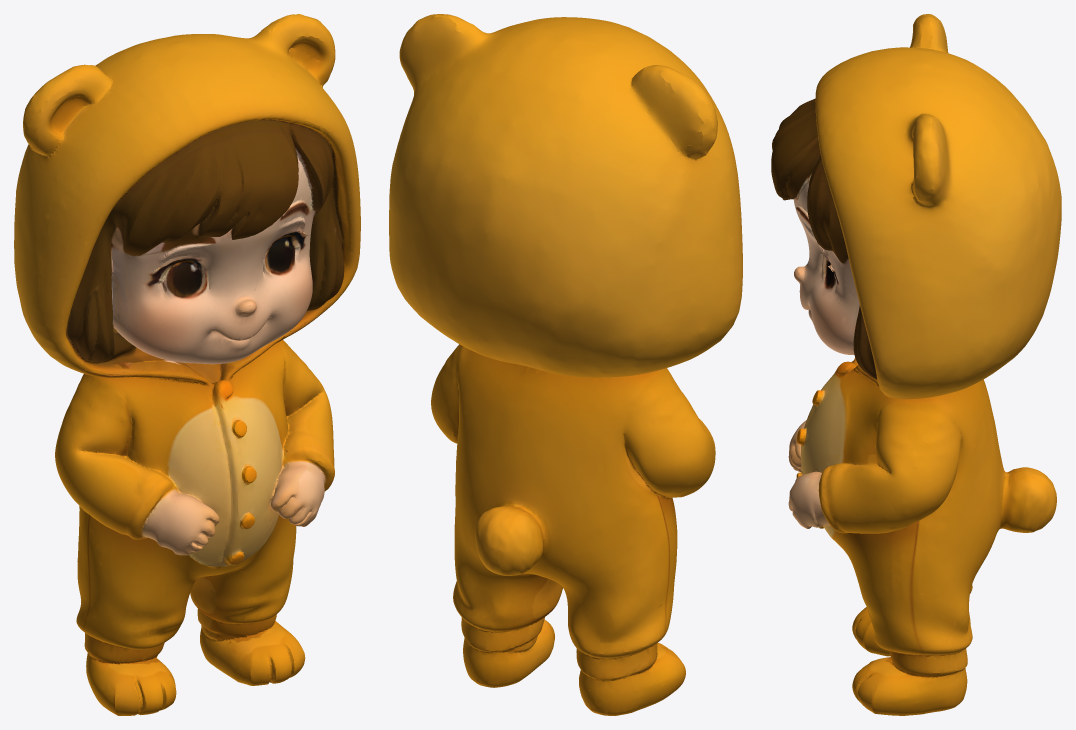
Rendered from base_basic_pbr.glb.
3 views of the same model, side by side, from view 1: azimuth 30°, elevation 25°; view 2: azimuth 150°, elevation 25°; view 3: azimuth 270°, elevation 25° (orthographic). The views are drawn at different scales.
Visible parts, largest first — view 1: model; view 2: model; view 3: model.
Part boxes in pixels (<box>): model: <box>14,14,360,715</box>; model: <box>389,14,742,715</box>; model: <box>771,14,1061,715</box>.
Size of the model in its own units: 0.4674 by 0.9 by 0.3882.
1 material, 1 textured.
